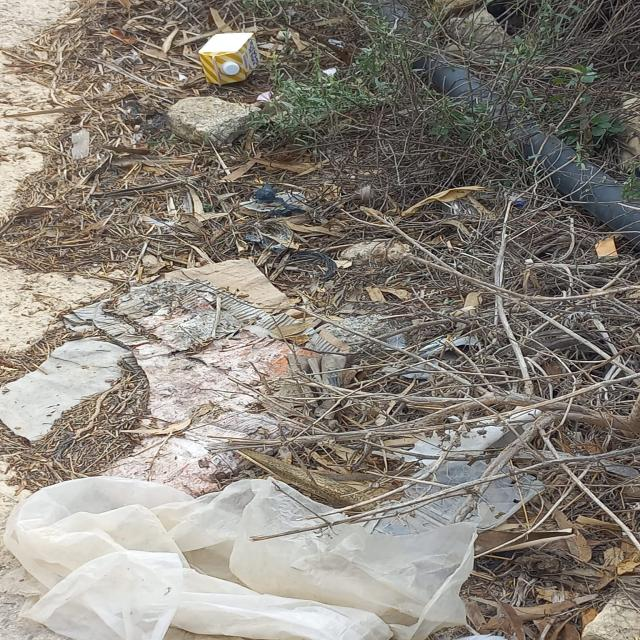Carton: (64, 258, 398, 474), (197, 32, 263, 88)
Other litter: (241, 183, 340, 283)
Other plastic: (6, 474, 478, 640), (369, 0, 640, 249), (349, 454, 548, 532), (393, 406, 541, 466), (402, 335, 485, 381)
